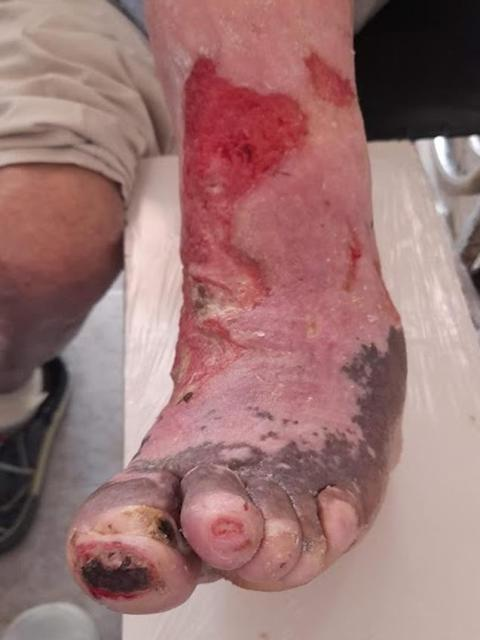wound: (170, 57, 309, 402), (72, 541, 165, 606), (300, 53, 355, 109), (341, 217, 366, 292), (206, 518, 249, 543)
